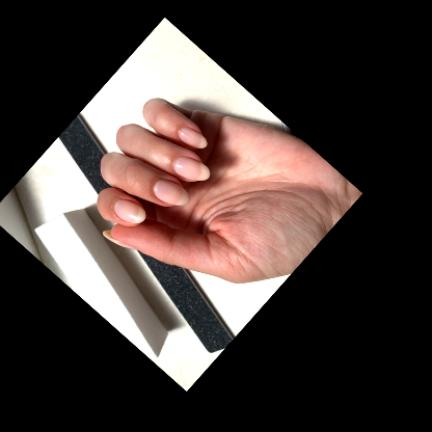Nail: (153, 179, 190, 206), (173, 156, 211, 181), (114, 200, 147, 224), (178, 127, 208, 149)
